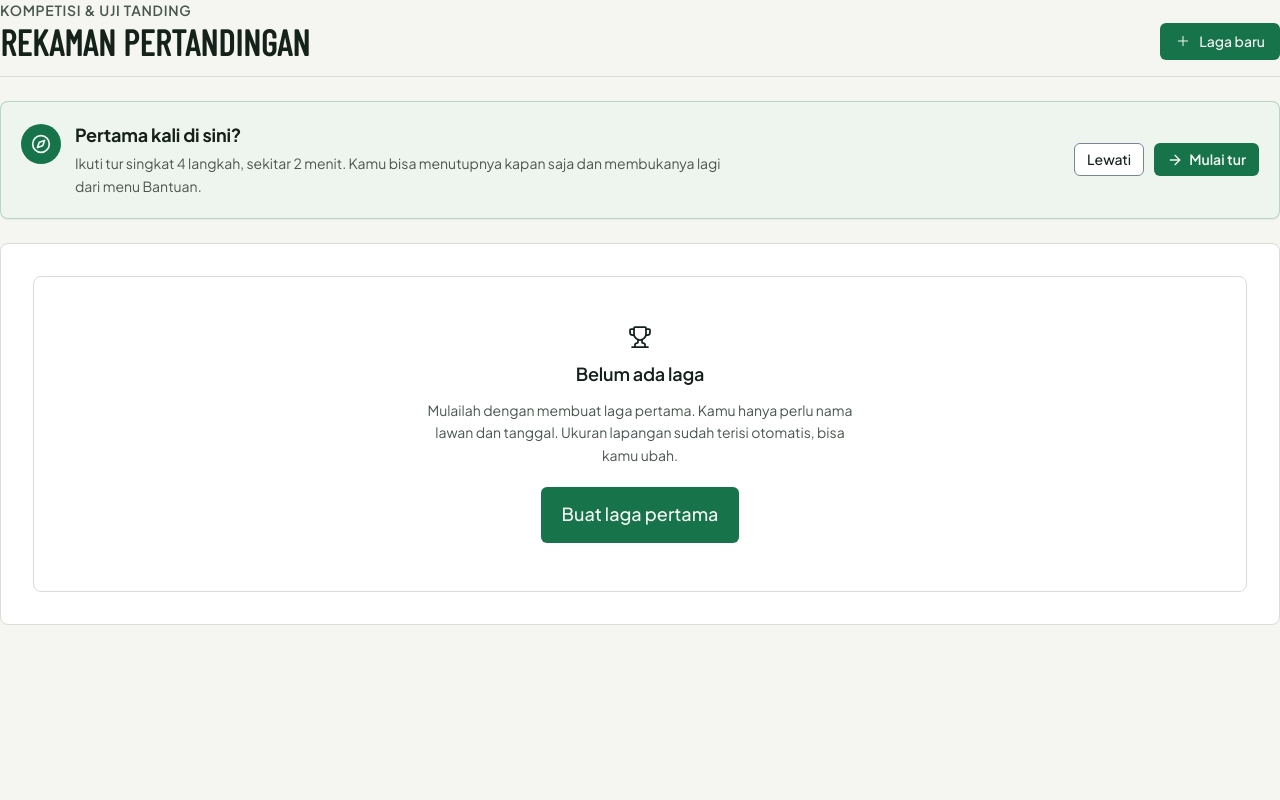
Scenario: UX-4 First-Run Tour and Guided Empty States › 3. Guided Empty States (Laga, Skuad, Taktik) › Laga empty state: renders spec copy and "Buat laga pertama" primary action
The width and height of the screenshot is (1280, 800).
Check: the heading "Belum ada laga" is shown, box [576,360,704,386]
Check: the text "Mulailah dengan membuat laga pertama. Kamu hanya perlu nama lawan dan tanggal. Ukuran lapangan sudah terisi otomatis, bi" is shown, box [427,400,852,464]
# Opens create dialog
Click the button "Buat laga pertama" at [640, 515], box [541,487,740,543]
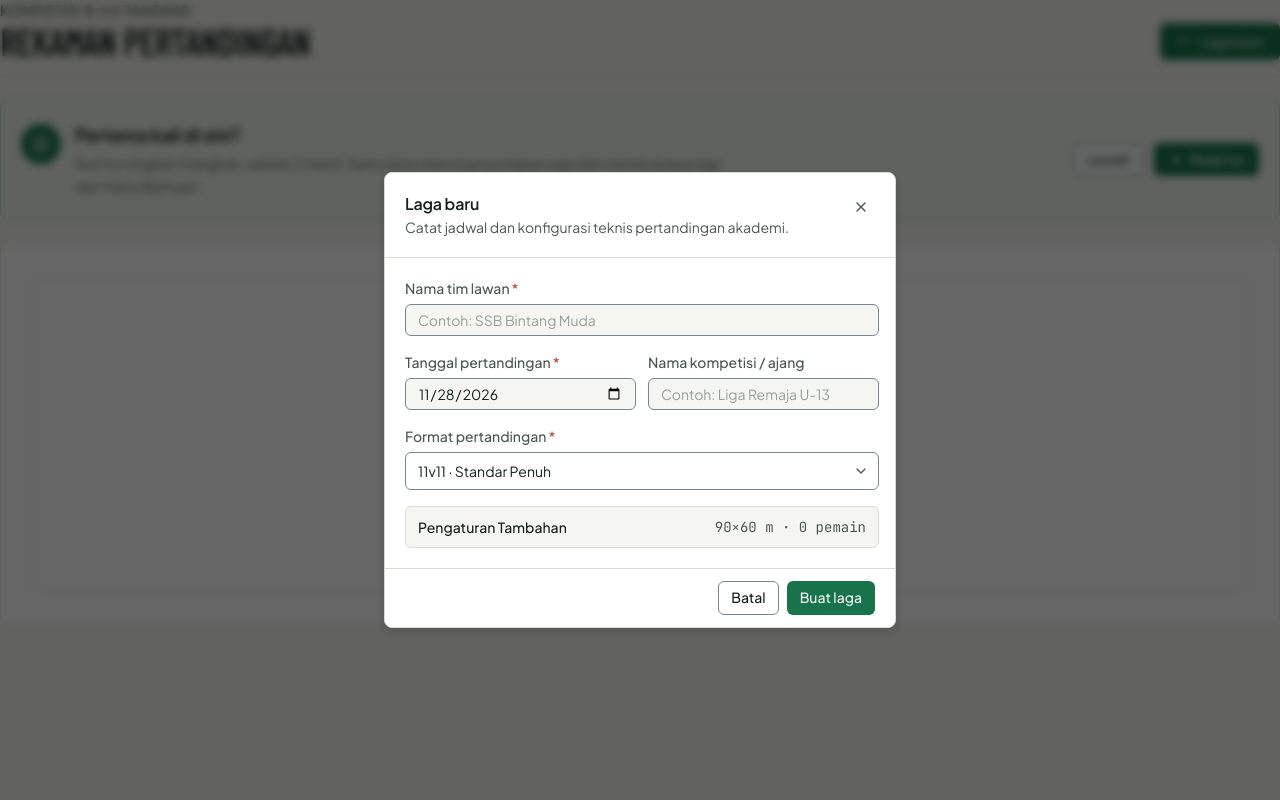
Check: the dialog is shown
Check: the field labelled "Nama tim lawan*" is shown, box [405,304,879,336]
